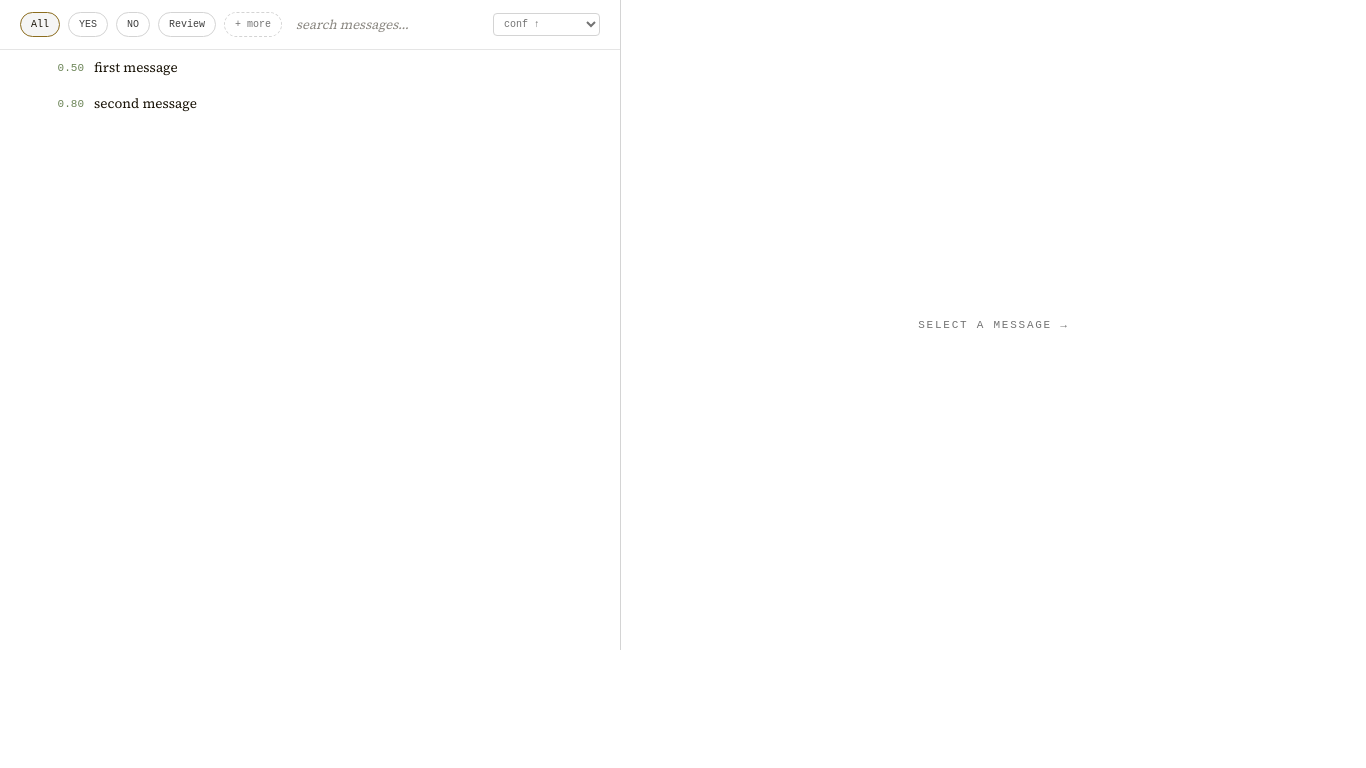
Scenario: shows an error toast when flip fails
This screenshot has width=1366, height=768.
Click the text "first message" at (136, 68), box [94,58,178,77]
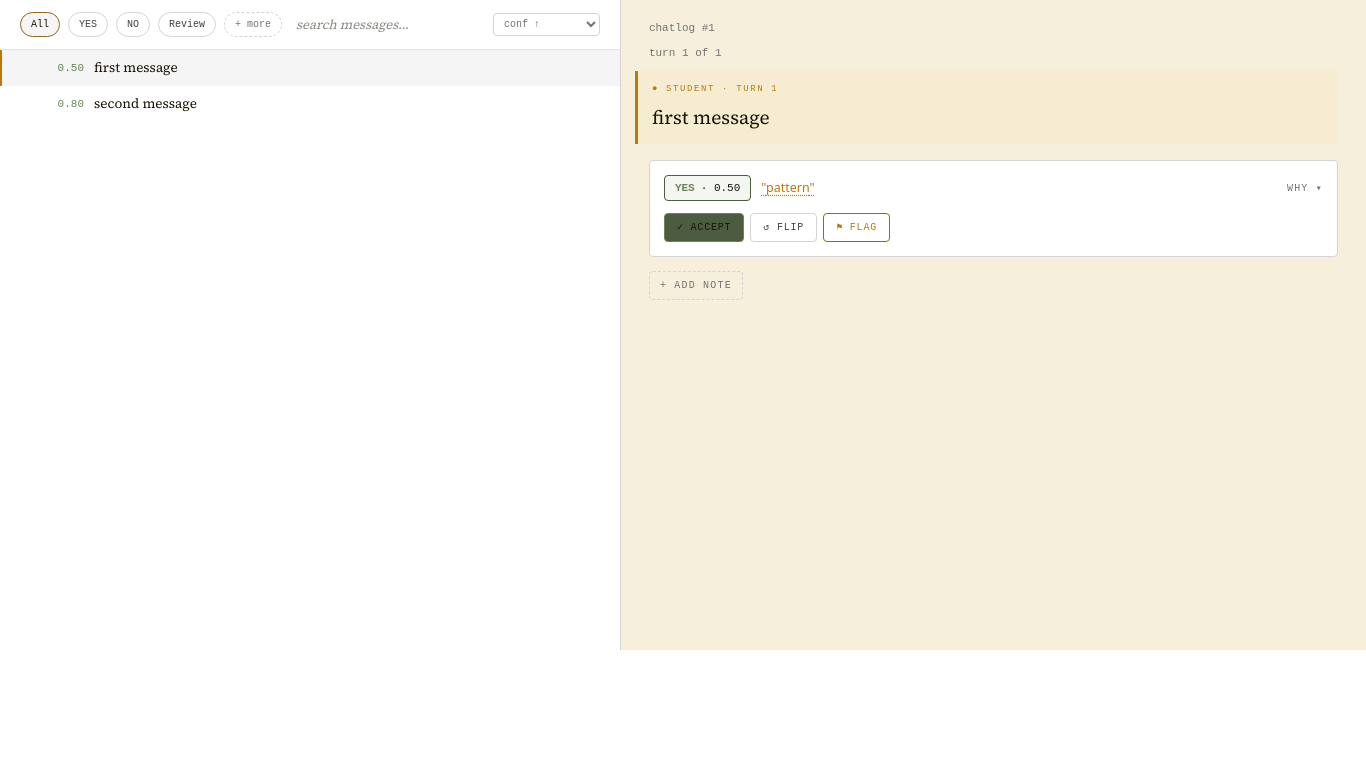
Expected: the button "YES" is shown, [68,12,108,37]
Click the button "↺ flip" at (784, 228), box [750,213,817,242]
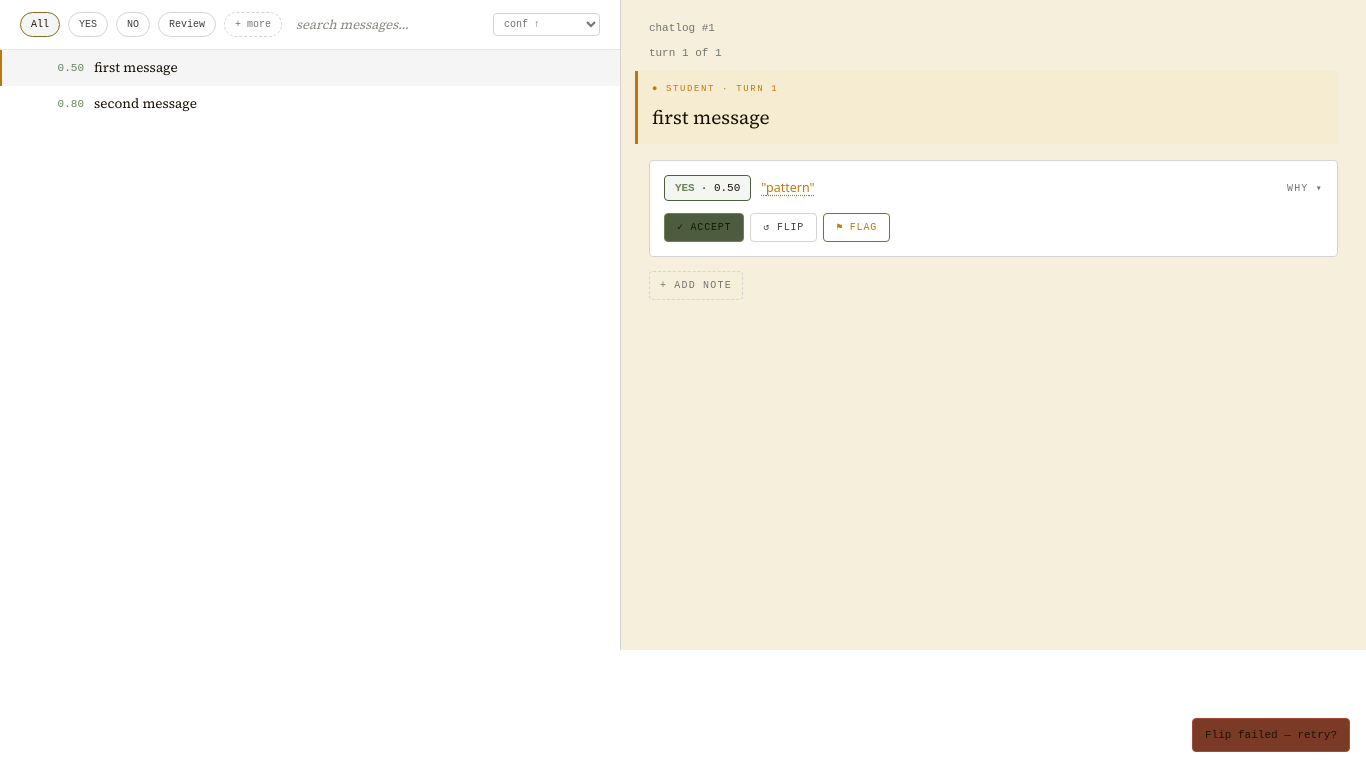
Expected: the message "Flip failed — retry?" is shown, [1192,718,1350,752]
Expected: the message shows "Flip failed", [1205,728,1337,740]
